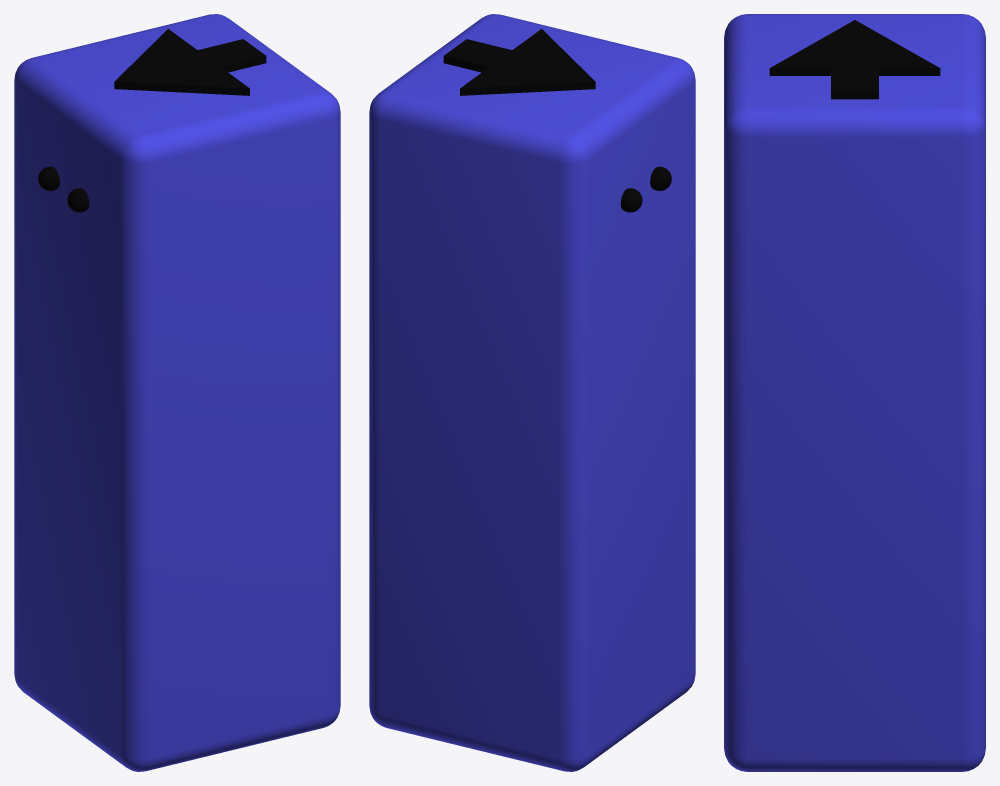
File: qpurple.obj
3 renders of one model, left to right at view 1: azimuth 30°, elevation 25°; view 2: azimuth 150°, elevation 25°; view 3: azimuth 270°, elevation 25°, orthographic. The views are drawn at different scales.
Visible parts, largest first — view 1: Cube.018_Cube.008; view 2: Cube.018_Cube.008; view 3: Cube.018_Cube.008.
Boxes of the visible parts, bbox=[...] form: Cube.018_Cube.008: bbox=[14, 14, 340, 771]; Cube.018_Cube.008: bbox=[369, 14, 695, 771]; Cube.018_Cube.008: bbox=[724, 14, 985, 771].
Size of the model in its own units: 0.1904 by 0.5061 by 0.1785.
